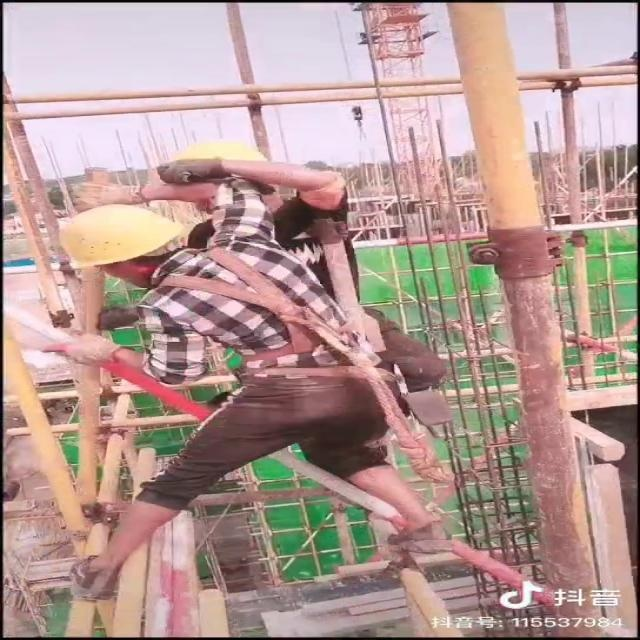Arnes_seguridad: (146, 241, 381, 383)
